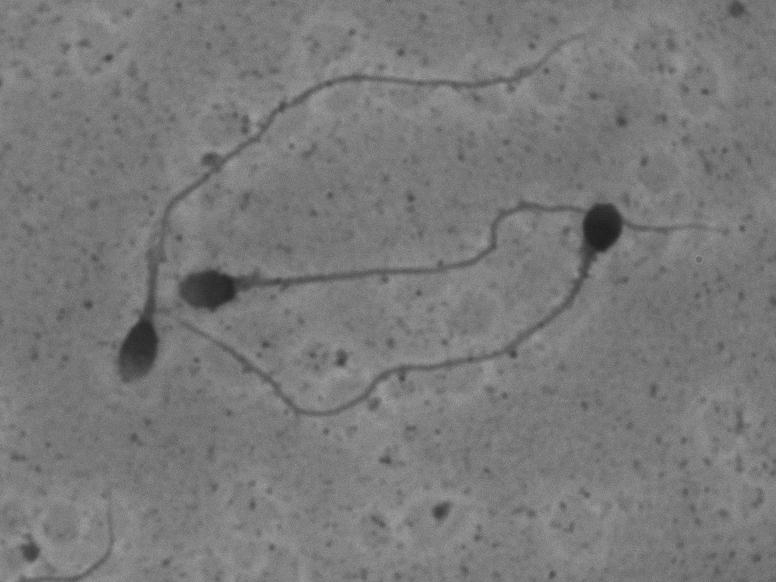Abnormal: (179, 184, 640, 429)
Normal: (105, 23, 594, 390), (167, 187, 731, 320)
